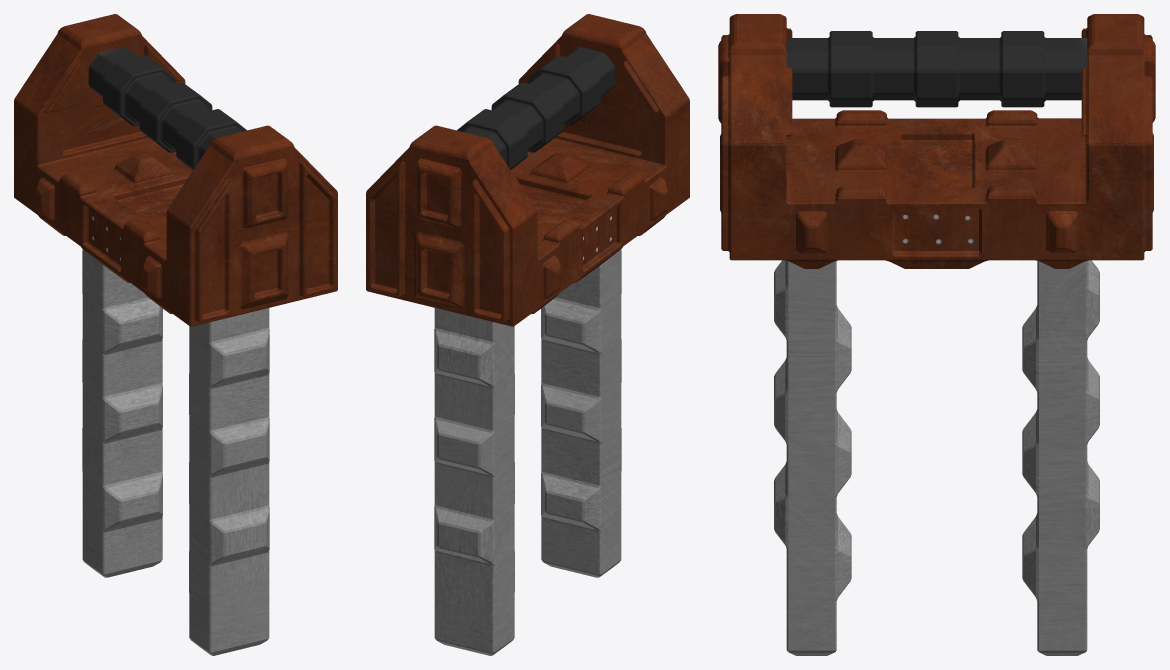
Rendered from THE ZAPPER.glb.
3 renders of one model, left to right at view 1: azimuth 30°, elevation 25°; view 2: azimuth 150°, elevation 25°; view 3: azimuth 270°, elevation 25°, orthographic. The views are drawn at different scales.
Parts seen in each view (by area): view 1: Cube; view 2: Cube; view 3: Cube.
Part boxes in pixels (left/top/right/bottom): Cube: left=14, top=14, right=337, bottom=655; Cube: left=366, top=14, right=689, bottom=655; Cube: left=718, top=14, right=1155, bottom=655.
Bounding box in the file's own units: 2.29 × 6.75 × 4.35.
3 materials, 3 textured.
